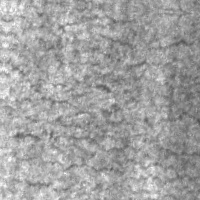crazing: (0, 1, 199, 199)
